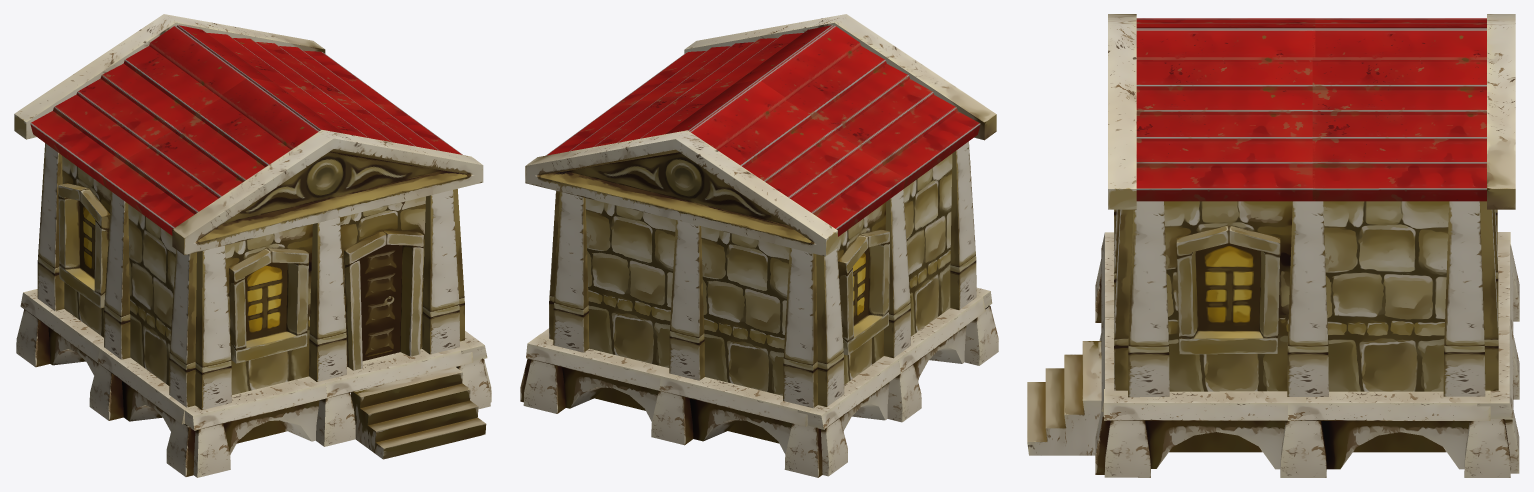
Rendered from Rome_Village_Buildings_01.FBX.
3 views of the same model, side by side, from view 1: azimuth 30°, elevation 25°; view 2: azimuth 150°, elevation 25°; view 3: azimuth 270°, elevation 25° (orthographic). The views are drawn at different scales.
Visible parts, largest first — view 1: Rome_Village_Buildings_01; view 2: Rome_Village_Buildings_01; view 3: Rome_Village_Buildings_01.
Part boxes in pixels (left/top/right/bottom): Rome_Village_Buildings_01: left=14, top=14, right=491, bottom=477; Rome_Village_Buildings_01: left=520, top=14, right=998, bottom=477; Rome_Village_Buildings_01: left=1027, top=14, right=1519, bottom=477.
Size of the model in its own units: 585 by 549 by 679.
